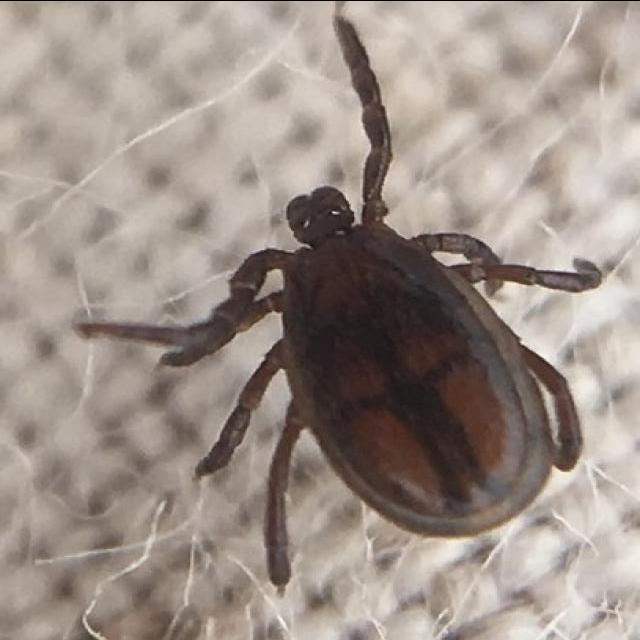Ixodes Ricinus-M: (75, 11, 605, 587)
